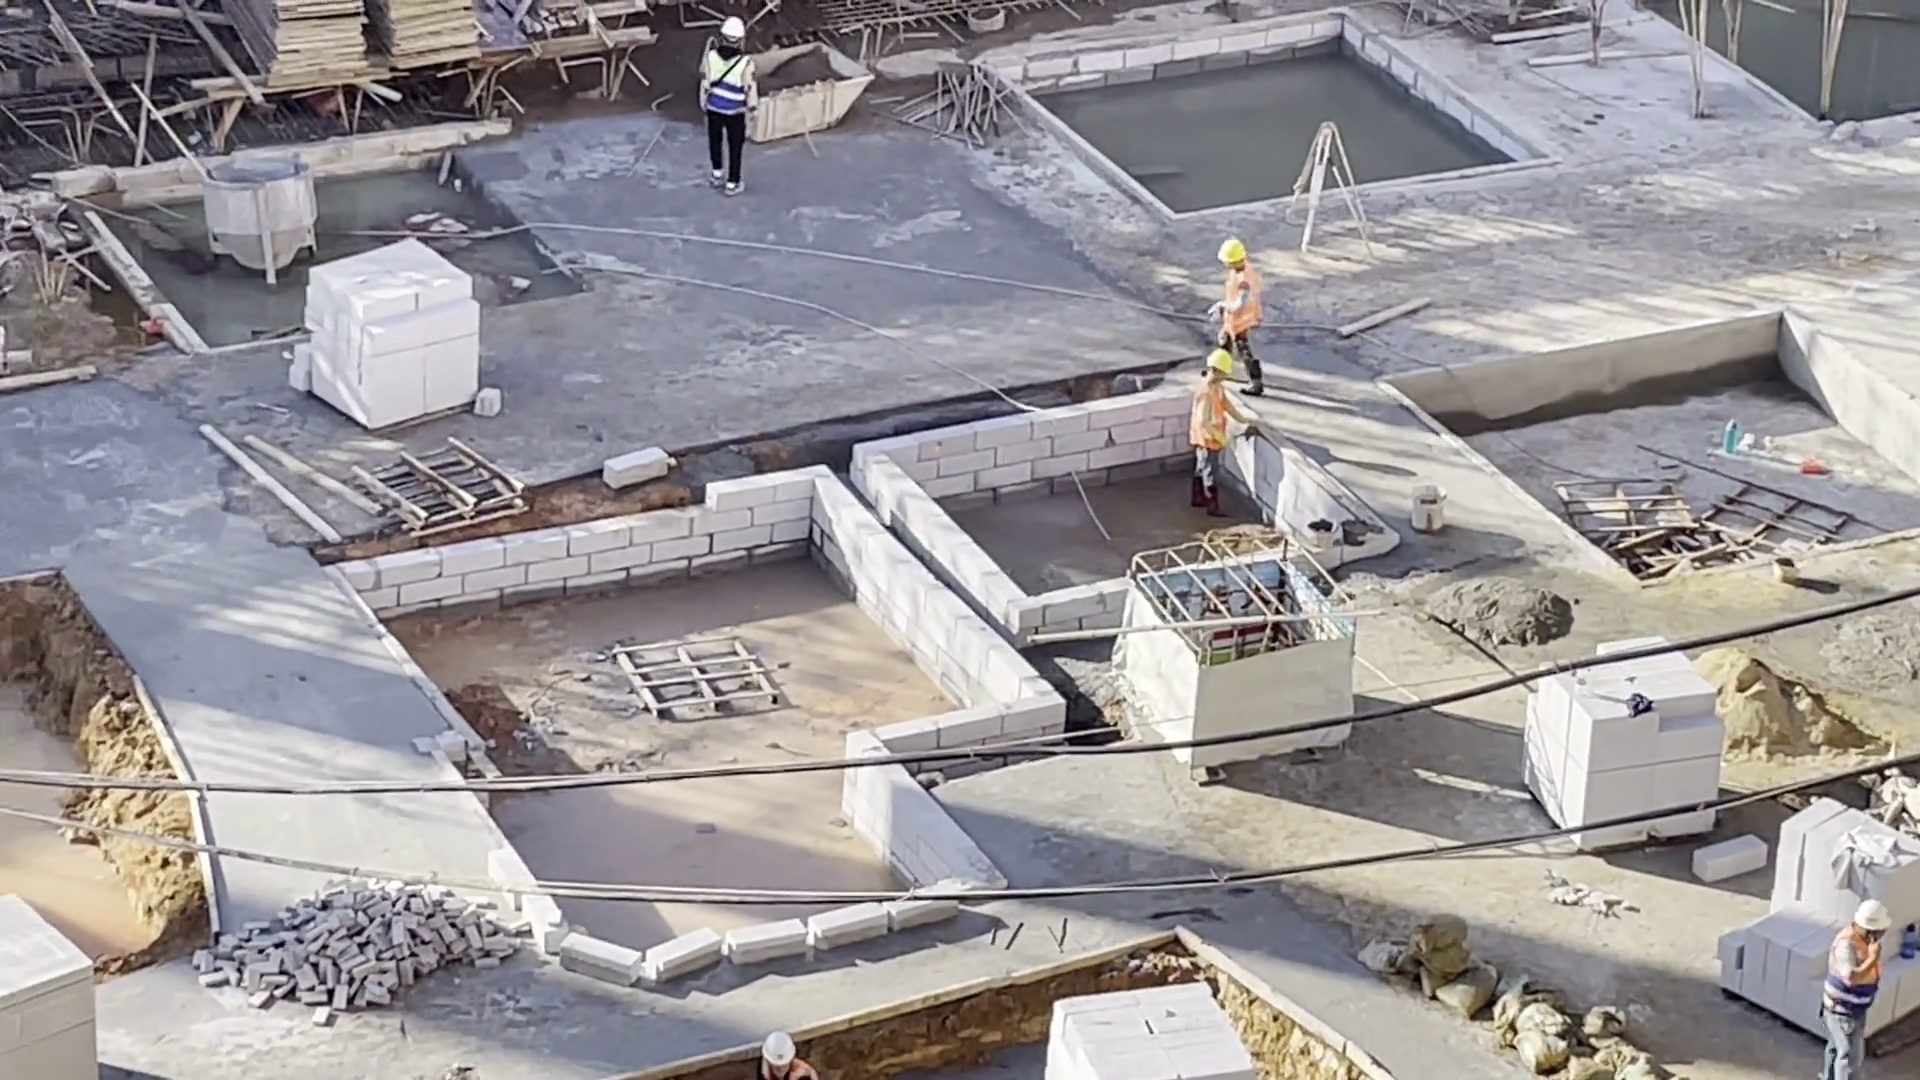board: (226, 2, 373, 86), (363, 8, 486, 72)
brick: (295, 228, 489, 430), (1510, 679, 1726, 812), (1042, 971, 1254, 1080), (9, 874, 102, 1080)
helmet: (749, 1028, 807, 1067), (1856, 897, 1897, 937), (1207, 345, 1237, 377), (1215, 238, 1249, 265), (716, 14, 747, 39)
hopper: (191, 143, 321, 286), (748, 35, 877, 152)
person: (1189, 348, 1270, 522), (1825, 890, 1895, 1080), (696, 17, 762, 195), (1203, 237, 1271, 394)
vest: (1825, 933, 1884, 1024), (701, 50, 749, 117), (1222, 267, 1265, 335), (1192, 386, 1234, 451)
